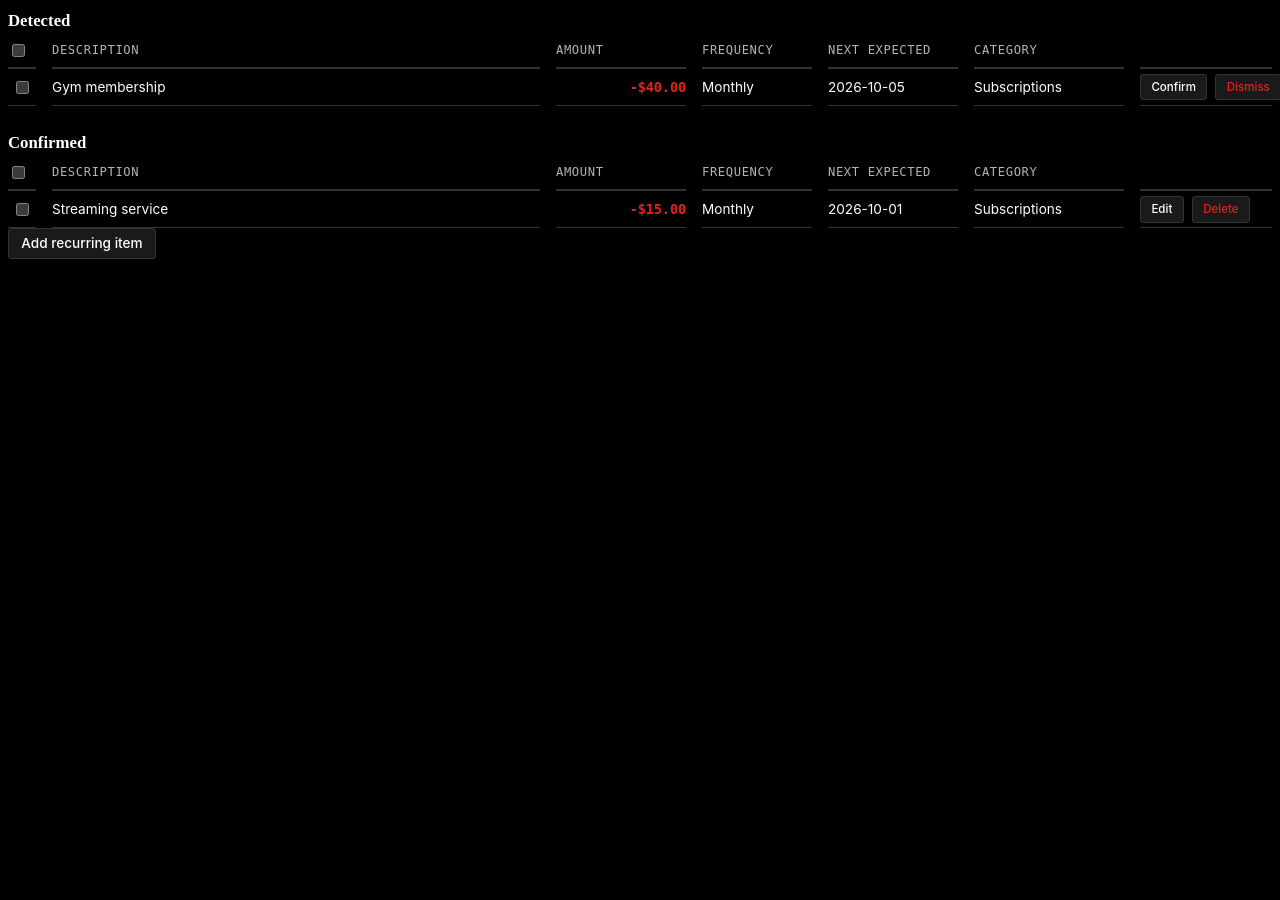
Test: RecurringItemsScreen delete confirmation › clicking Delete opens a confirmation panel with a verb-phrase label, not a generic one
Expected: the text "Streaming service" is shown, x1=52 y1=191 x2=540 y2=228
Click the button "Delete" at (1221, 209), box x1=1192 y1=196 x2=1250 y2=223
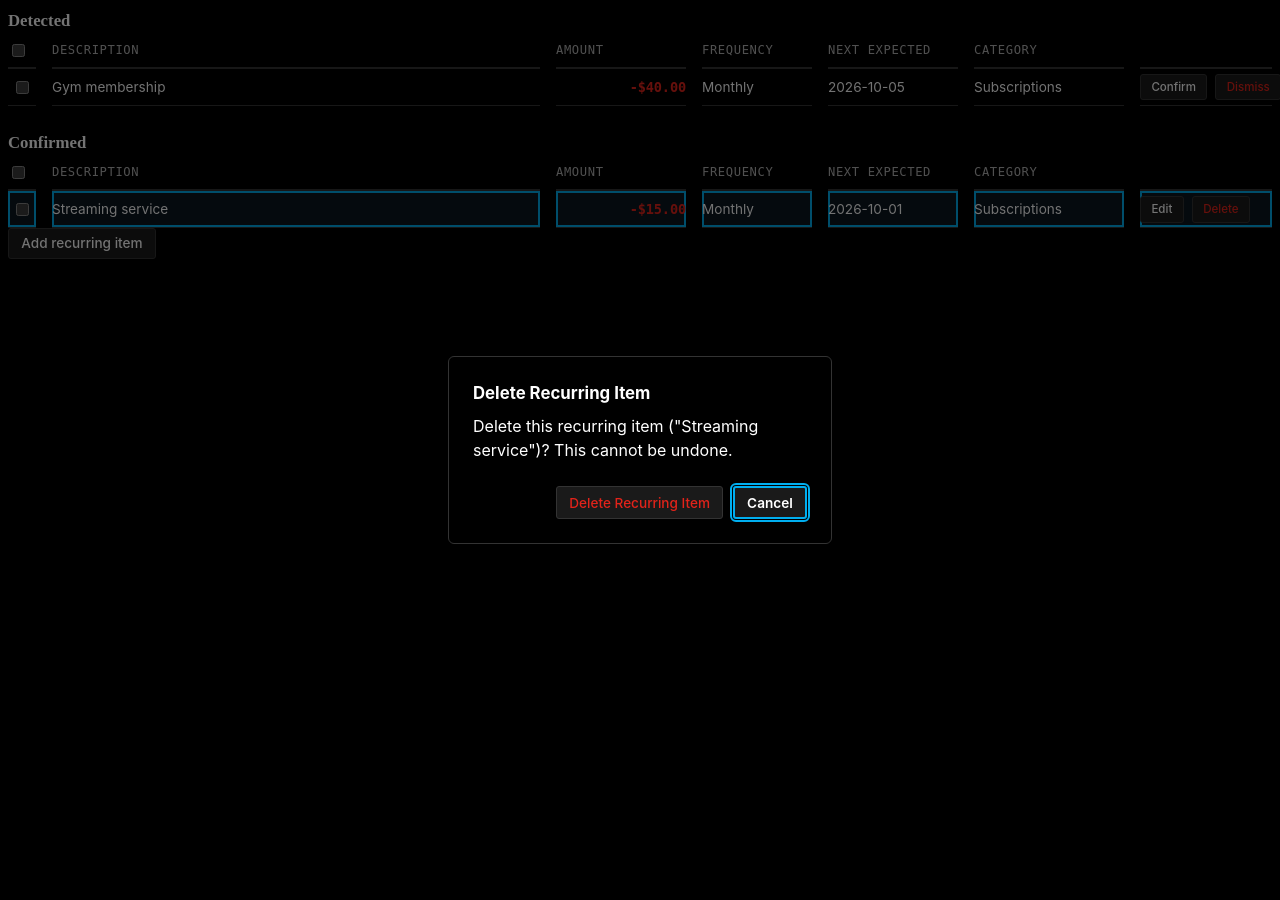
Expected: the heading "Delete Recurring Item" is shown, x1=473 y1=383 x2=650 y2=403
Expected: the button "Delete Recurring Item" is shown, x1=556 y1=486 x2=723 y2=519
